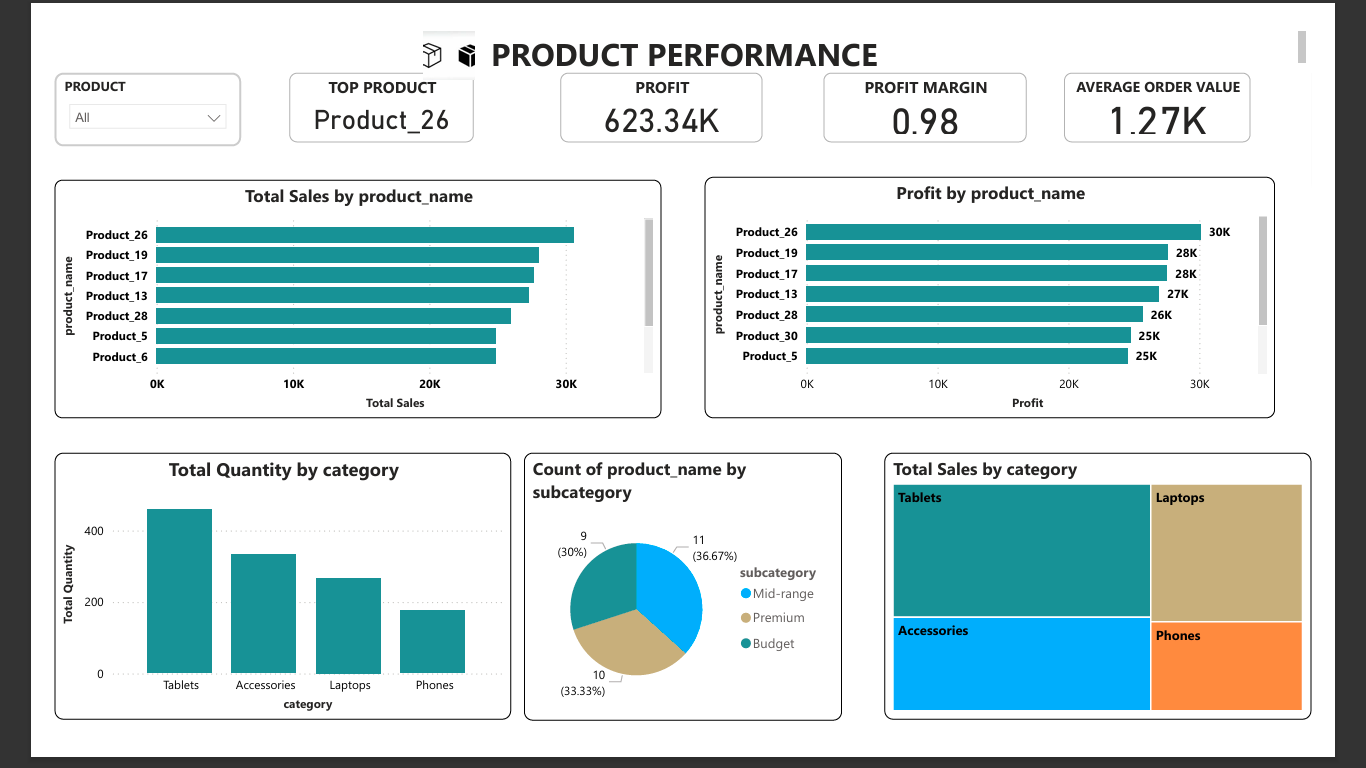

The dashboard page shown, as its layout file describes it:
{"tool":"powerbi","page":{"name":"PRODUCT & CATEGORY INSIGHTS","canvas":[1280,720],"ordinal":1},"visuals":[{"type":"textbox","box":[10.7,0,1269.3,46.7],"z":0},{"type":"card","title":"TOP PRODUCT","fields":{"Values":["All measures.Top Product"]},"box":[239.5,46.8,187.2,71.6],"z":1000},{"type":"card","title":"PROFIT","fields":{"Values":["All measures.Profit"]},"box":[514.8,46.8,206.5,71.6],"z":2000},{"type":"card","title":"PROFIT MARGIN","fields":{"Values":["All measures.Profit Margin"]},"box":[783.1,46.8,206.5,71.6],"z":3000},{"type":"card","title":"AVERAGE ORDER VALUE","fields":{"Values":["All measures.Average Order Value"]},"box":[1028.1,46.8,189.9,71.6],"z":4000},{"type":"clusteredBarChart","fields":{"Y":["All measures.Total Sales"],"Category":["products.product_name"]},"box":[0,155.5,618,243.6],"z":5000},{"type":"clusteredBarChart","fields":{"Category":["products.product_name"],"Y":["All measures.Profit"]},"box":[662,152.8,580.8,246.4],"z":6000},{"type":"treemap","fields":{"Group":["products.category"],"Values":["All measures.Total Sales"]},"box":[845.1,433.5,434.9,272.5],"z":7000},{"type":"clusteredColumnChart","fields":{"Y":["All measures.Total Quantity"],"Category":["products.category"]},"box":[0,433.5,465.2,272.5],"z":8000},{"type":"image","box":[359.2,0,85.3,59.2],"z":9000},{"type":"slicer","title":"PRODUCT","fields":{"Values":["products.product_name"]},"box":[0,46.8,189.9,75.7],"z":9001},{"type":"pieChart","fields":{"Category":["products.subcategory"],"Y":["CountNonNull(products.product_name)"]},"box":[477.6,433.5,324.8,273.9],"z":9002}]}

Visuals, with their boxes in screenshot pixels (x1, y1, x2, y2), scaled from the page's 1280x720 canvas onto the 1366x768 screenshot:
textbox: region(11, 0, 1365, 50)
"TOP PRODUCT" card: region(256, 50, 455, 126)
"PROFIT" card: region(549, 50, 770, 126)
"PROFIT MARGIN" card: region(836, 50, 1056, 126)
"AVERAGE ORDER VALUE" card: region(1097, 50, 1300, 126)
clusteredBarChart - All measures.Total Sales x products.product_name: region(0, 166, 660, 426)
clusteredBarChart - products.product_name x All measures.Profit: region(706, 163, 1326, 426)
treemap - products.category x All measures.Total Sales: region(902, 462, 1365, 753)
clusteredColumnChart - All measures.Total Quantity x products.category: region(0, 462, 496, 753)
image: region(383, 0, 474, 63)
"PRODUCT" slicer: region(0, 50, 203, 131)
pieChart - products.subcategory x CountNonNull(products.product_name): region(510, 462, 856, 755)
